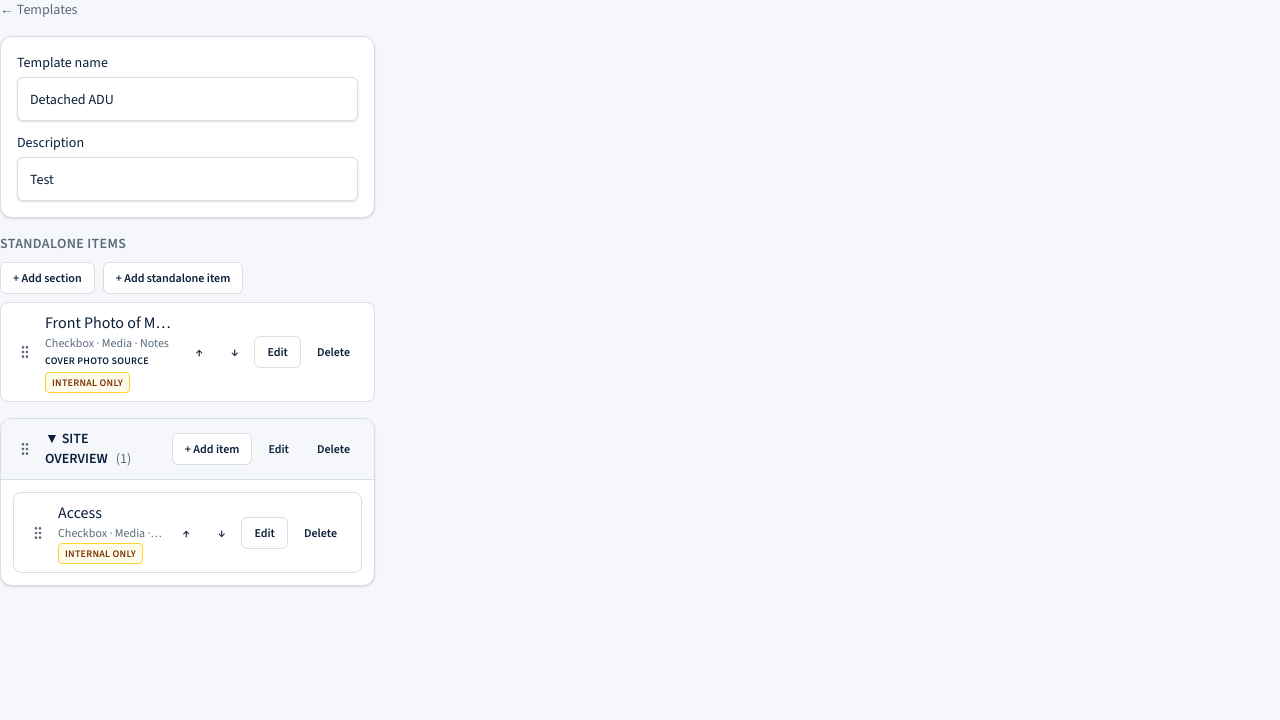
template editor compact + modal › places Add section beside Add standalone item at the top
Expected: the button "+ Add standalone item" is shown, [103, 262, 243, 294]
Expected: the element that starts with "Standalone items" is shown, [0, 234, 375, 402]
Click the button "+ Add section" at (47,278), box [0, 262, 95, 294]
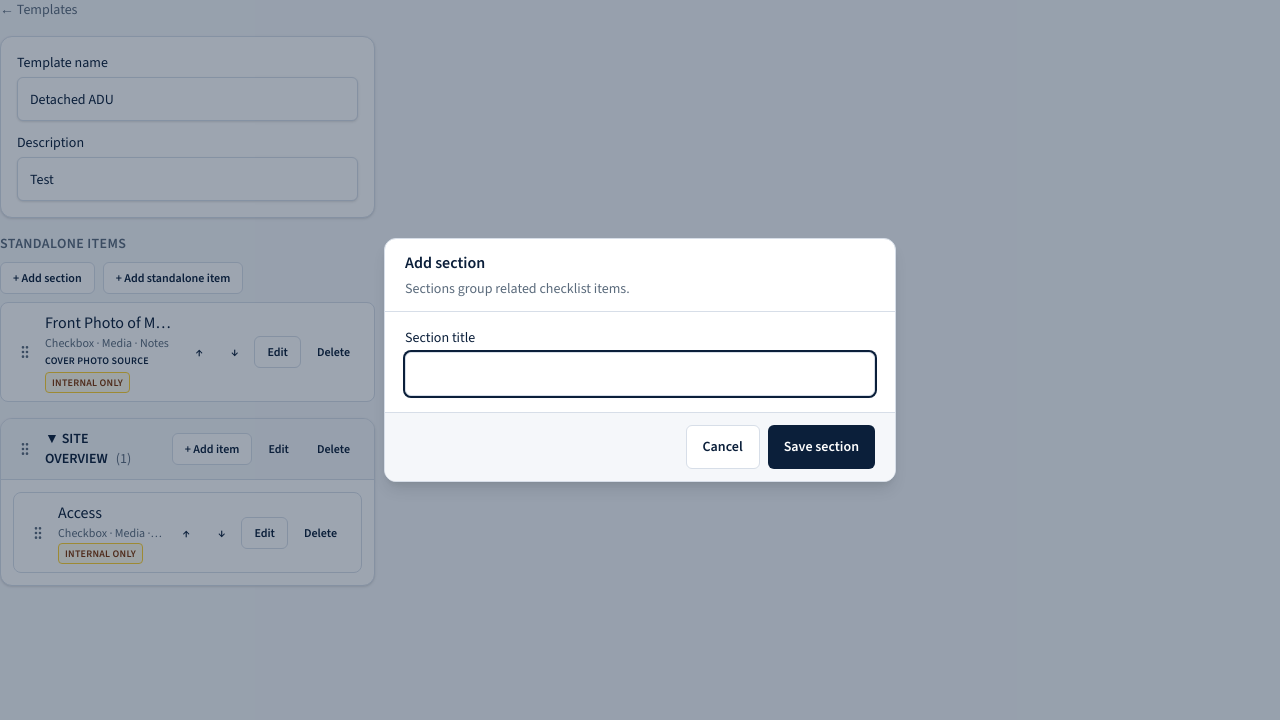
Expected: the dialog is shown, [384, 238, 896, 482]
Expected: the text "Sections group related checklist items." is shown, [405, 279, 630, 298]
